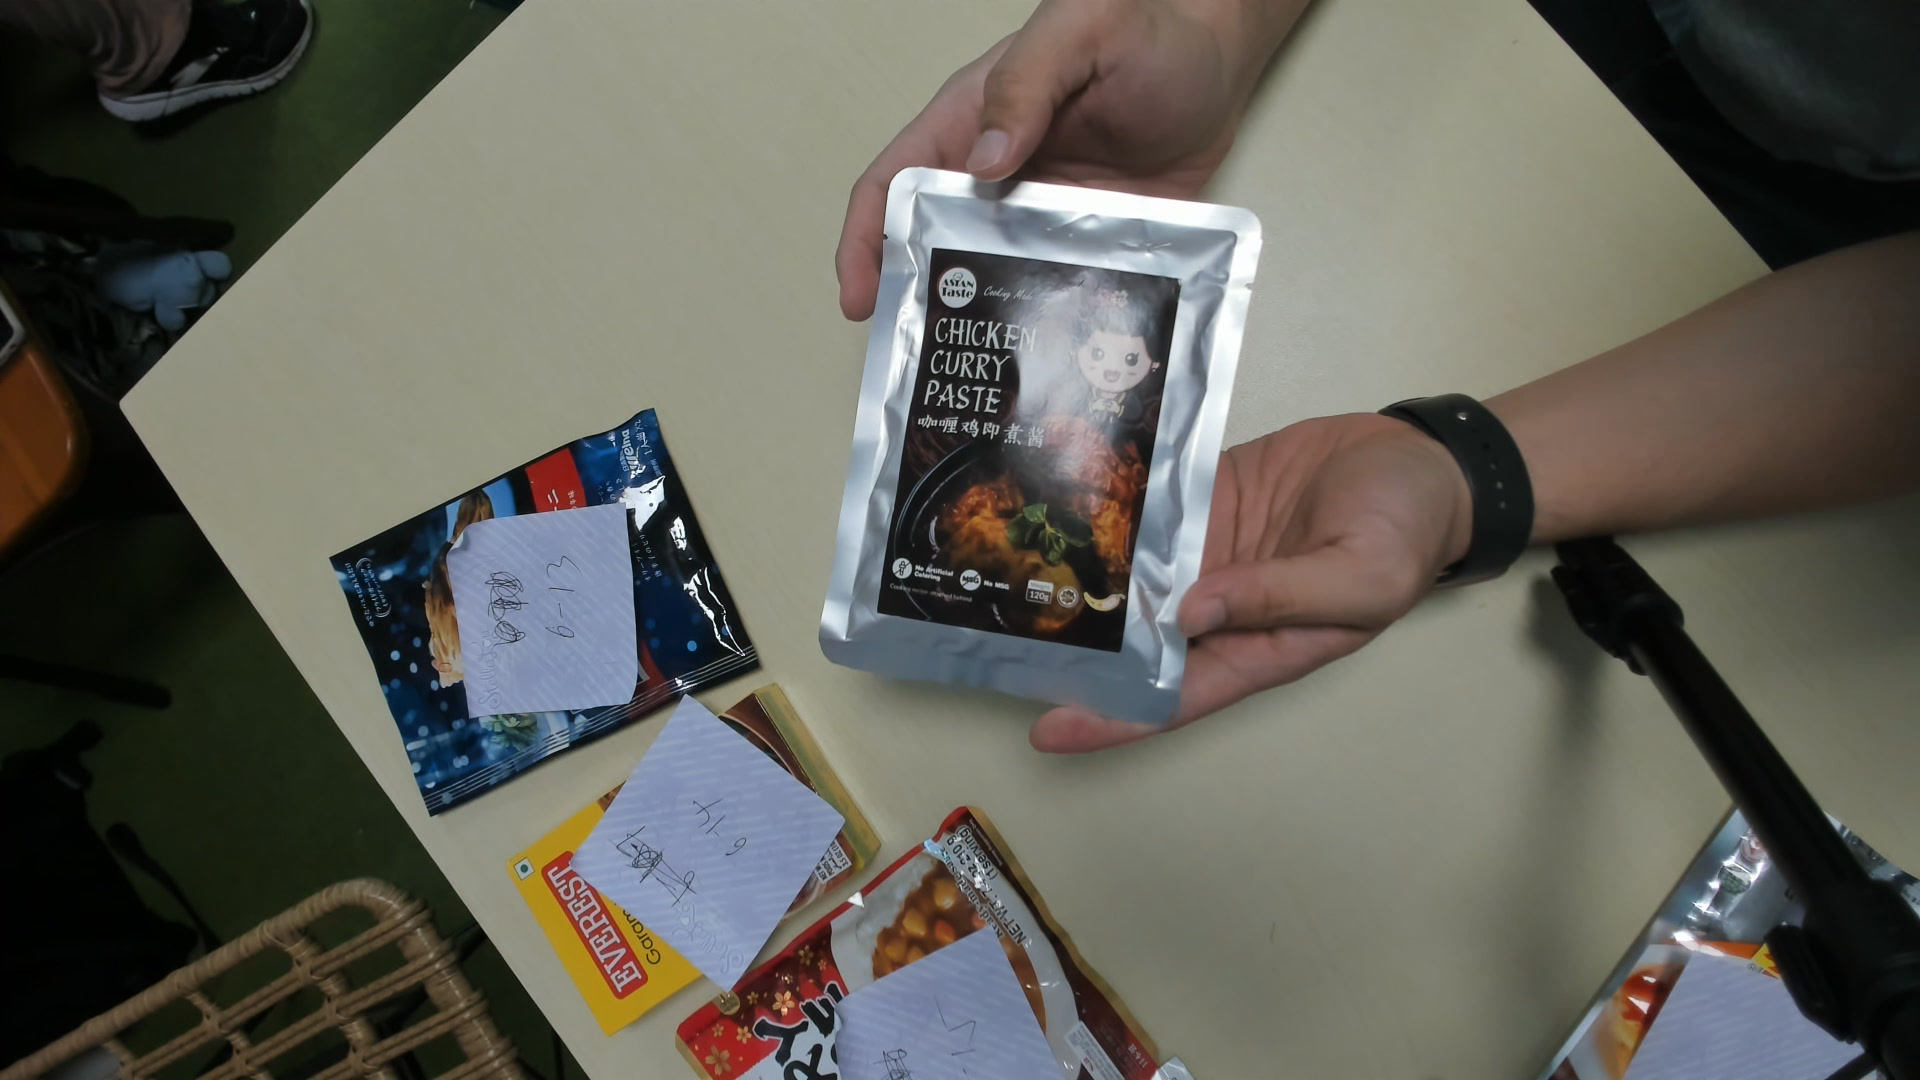CurryPastePowderSauce_100-199g_Halal_NonHealthy: (822, 169, 1259, 721)
